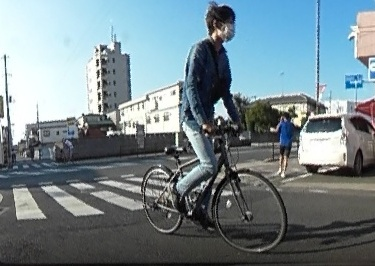person: (170, 2, 237, 213), (278, 111, 293, 175), (62, 136, 73, 160), (10, 148, 16, 164)
